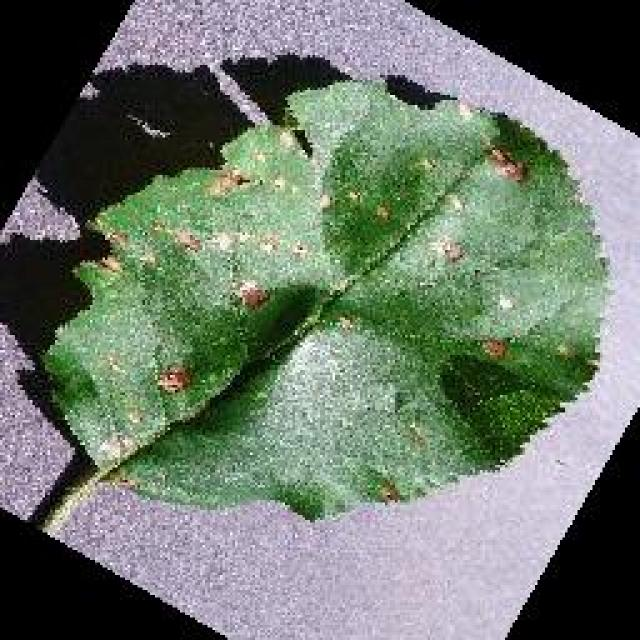Black_rot: (35, 72, 610, 520)
